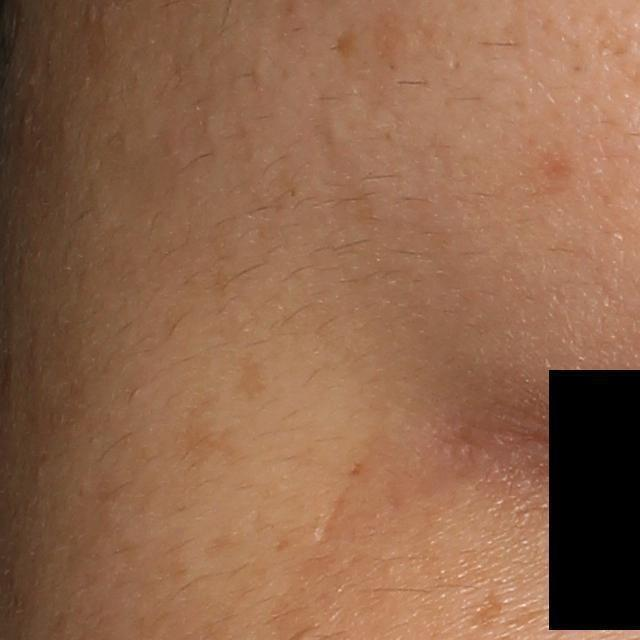comedo: (319, 115, 351, 151)
melasma: (233, 352, 268, 397), (471, 590, 505, 629)
